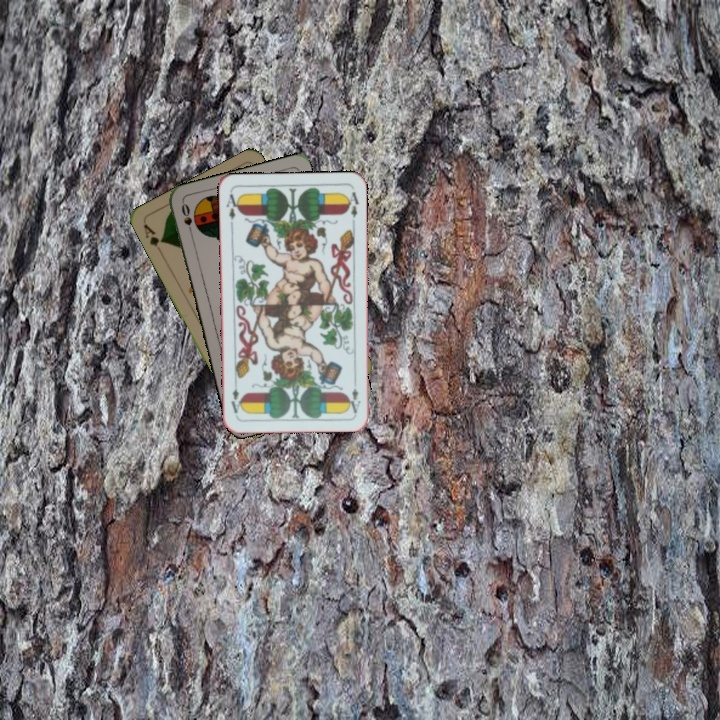EA: (222, 190, 242, 229), (346, 385, 363, 415)
GA: (140, 220, 166, 257)
SO: (177, 199, 196, 239)
